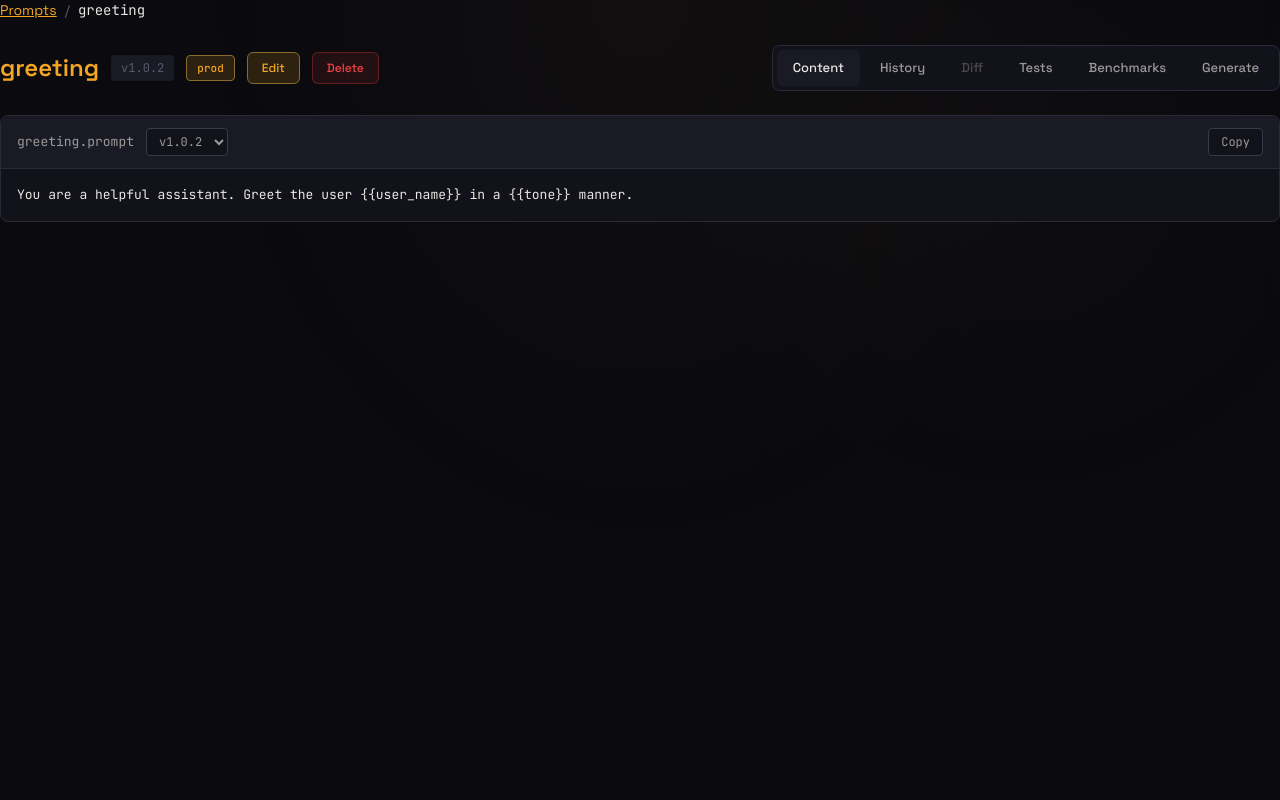
it: PromptPage › shows confirm dialog on delete click
This screenshot has width=1280, height=800.
Step 1. Click the button "Delete" → (345,68), box [312,52,379,84]
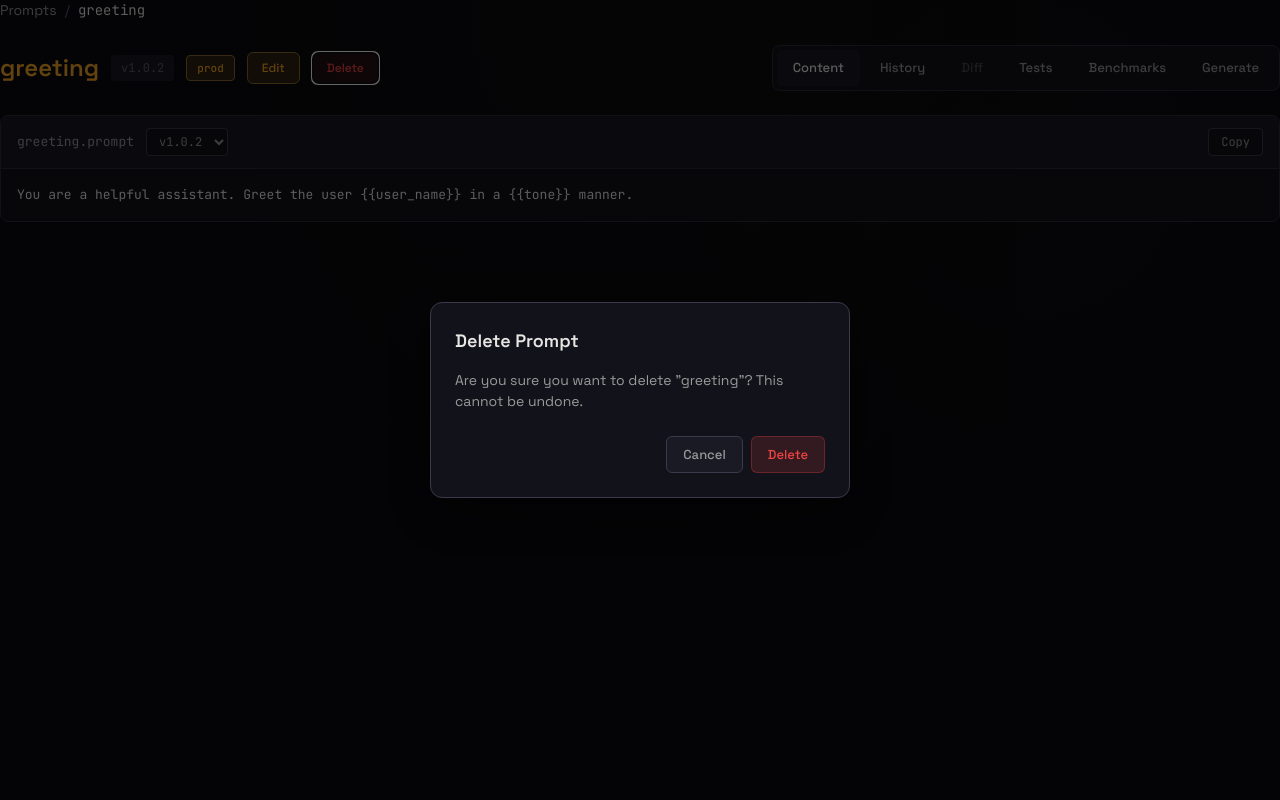
Expected: the heading "Delete Prompt" is shown, [455,329,579,352]
Expected: the text "Are you sure" is shown, [455,371,783,410]
